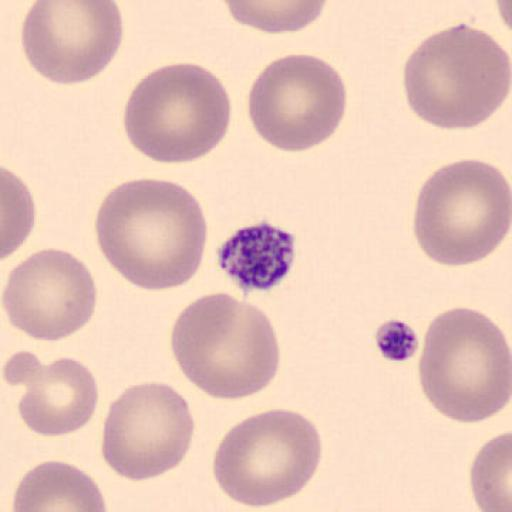Platelet: (214, 218, 298, 294)
RBC: (93, 176, 210, 294), (170, 292, 282, 401), (402, 22, 510, 130), (122, 62, 234, 165), (416, 304, 511, 424), (212, 407, 324, 508), (412, 157, 511, 268), (246, 52, 347, 154), (101, 380, 196, 483), (3, 245, 98, 343), (20, 0, 124, 86), (16, 354, 100, 437), (11, 458, 108, 512), (221, 0, 330, 35), (469, 429, 512, 512), (1, 165, 37, 262), (495, 0, 512, 35)
